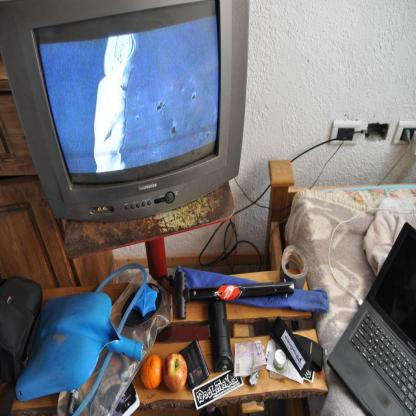board: (332, 229, 416, 410)
